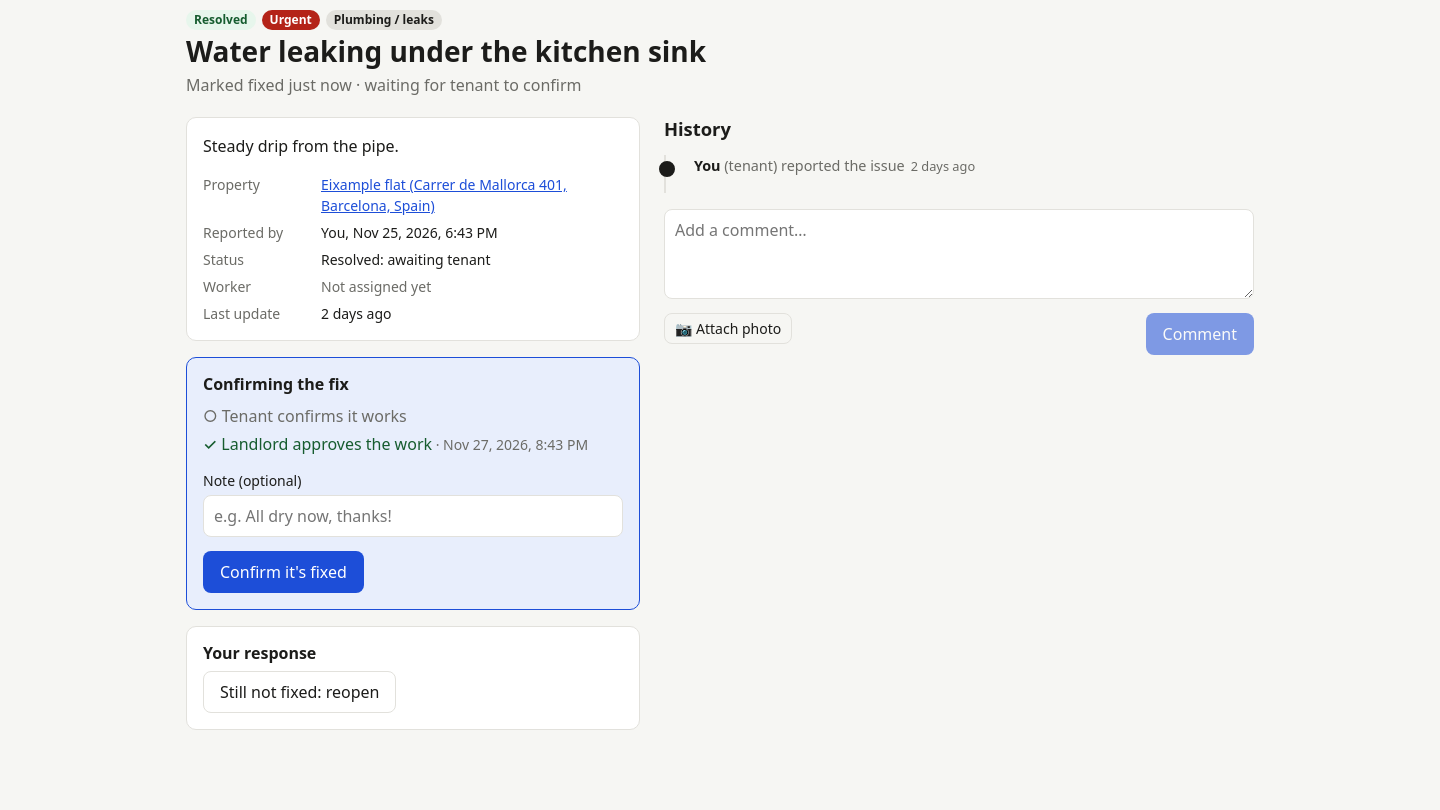
tenant › can confirm a fix (the landlord already approved), or must give a reason to reopen
(page scrolled)
Reopening needs a reason.
Click the button "Still not fixed: reopen" at (300,692), box left=203, top=671, right=396, bottom=713
(page scrolled)
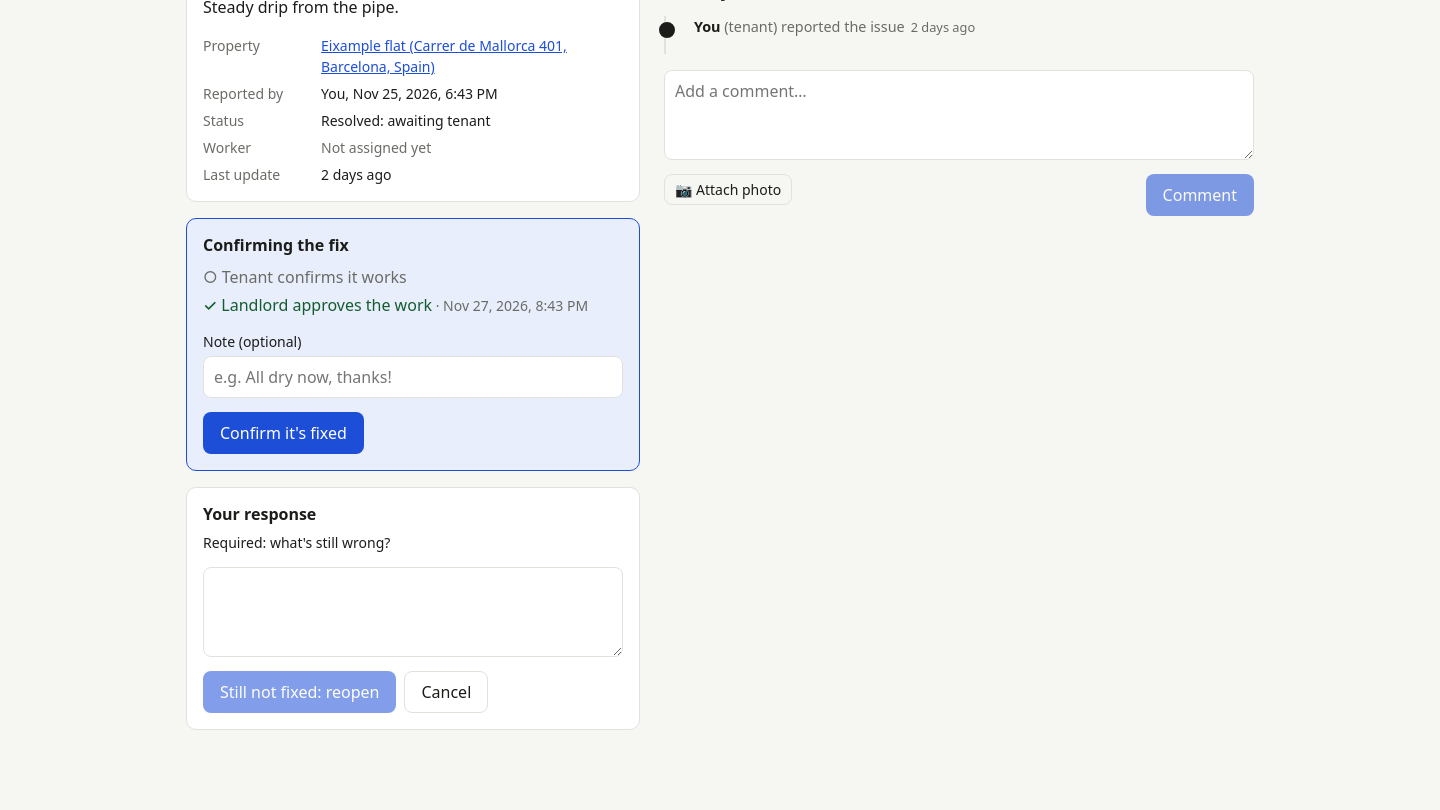
Click the button "Cancel" at (446,692), box left=404, top=671, right=488, bottom=713
(page scrolled)
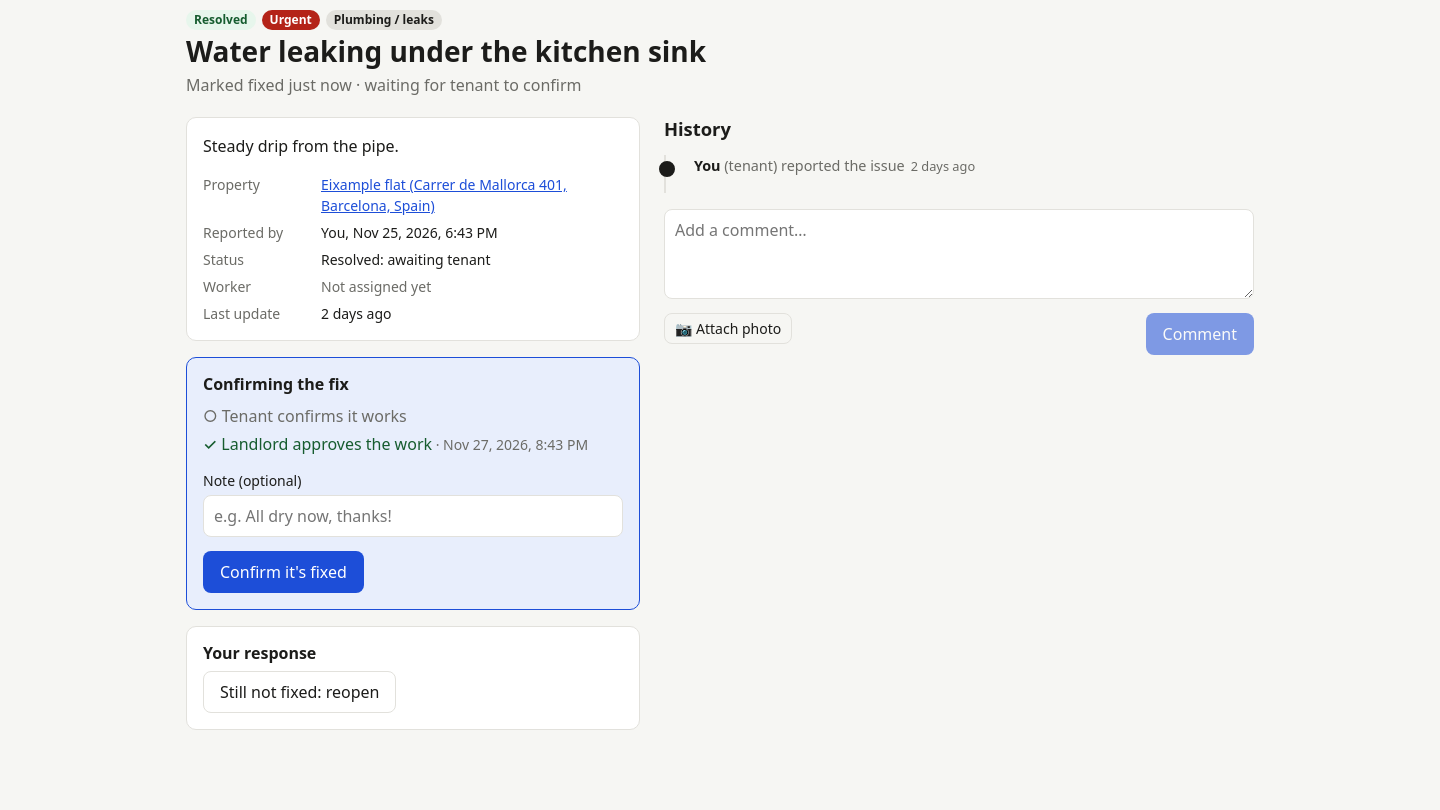
Confirming closes it (the landlord had already approved).
Type "All dry now" into the field at (413,516), box left=203, top=495, right=623, bottom=537
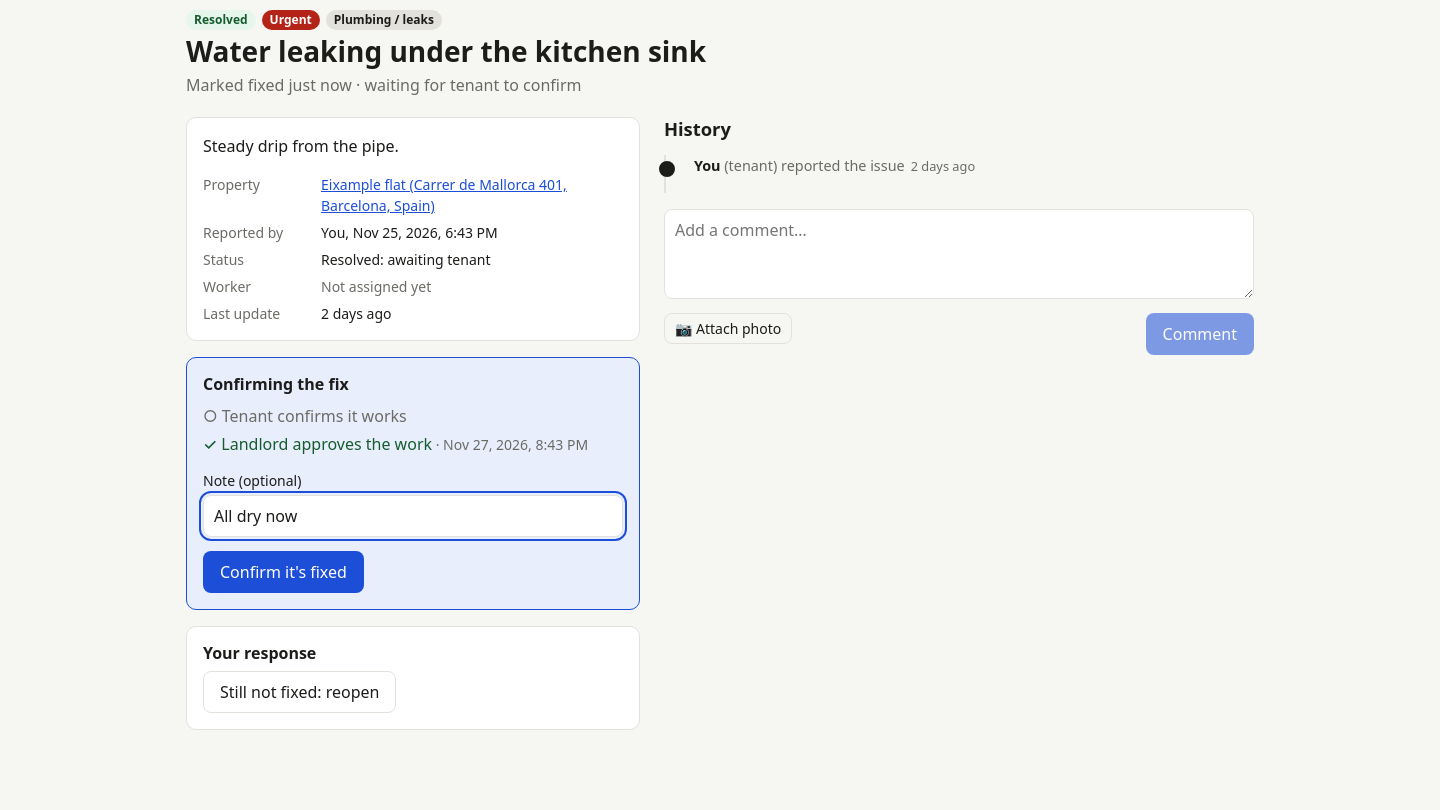
Click the button "Confirm it's fixed" at (283,572), box left=203, top=551, right=364, bottom=593
(page scrolled)
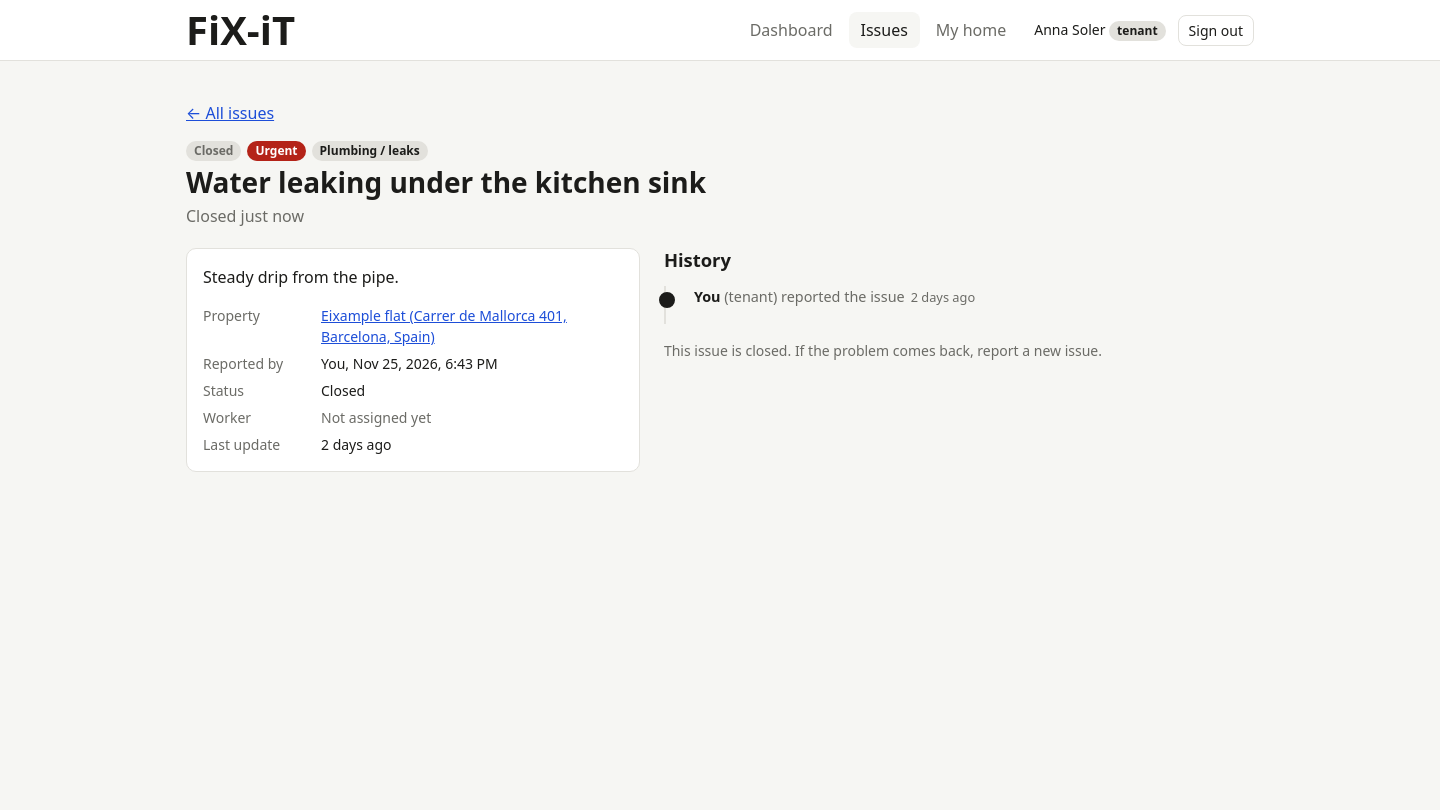
Result: the text "This issue is closed" is shown at left=664, top=341, right=1102, bottom=360
